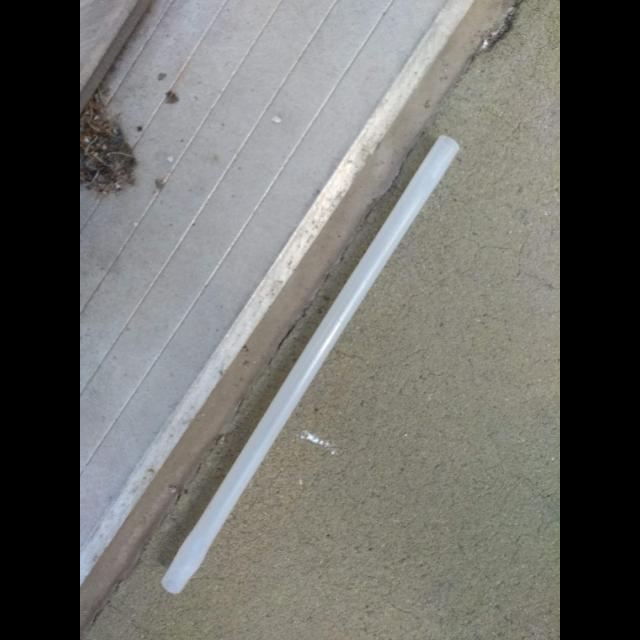Plastic: (162, 135, 460, 593)
